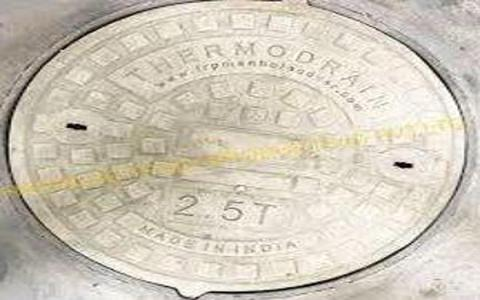proper manhole: (1, 1, 469, 293)
